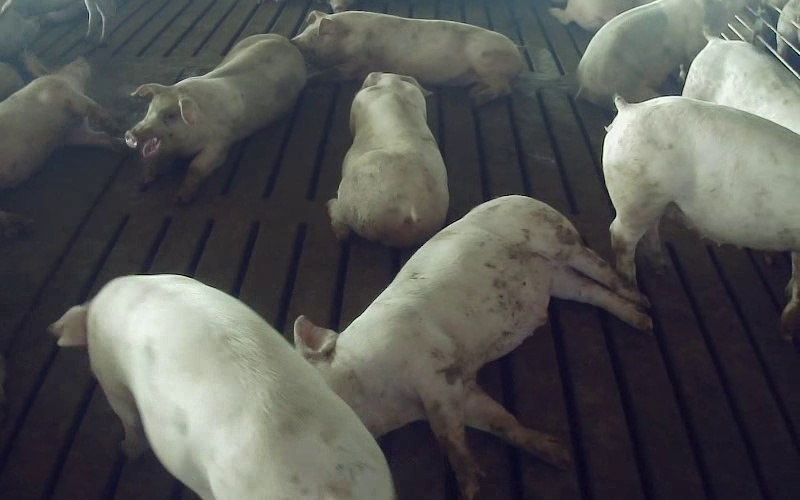pig: (294, 196, 651, 499), (51, 276, 393, 499), (125, 35, 306, 201), (292, 11, 523, 102), (328, 72, 448, 246), (0, 51, 111, 188), (682, 37, 799, 133)
